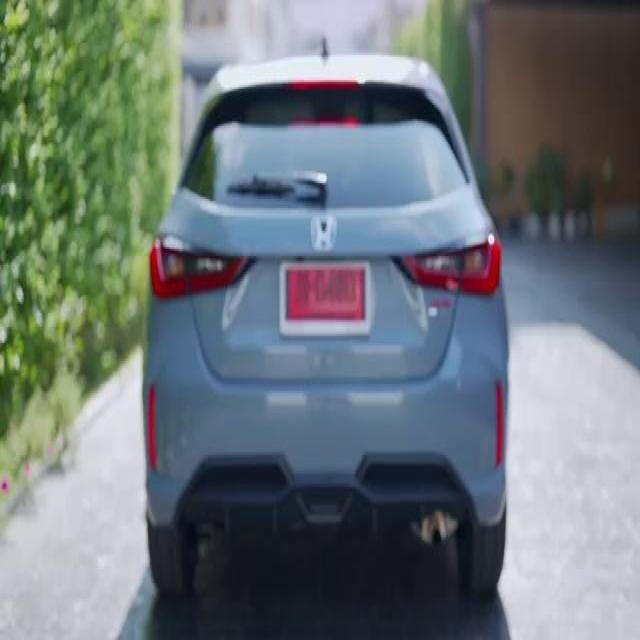Hatchback: (142, 53, 508, 596)
